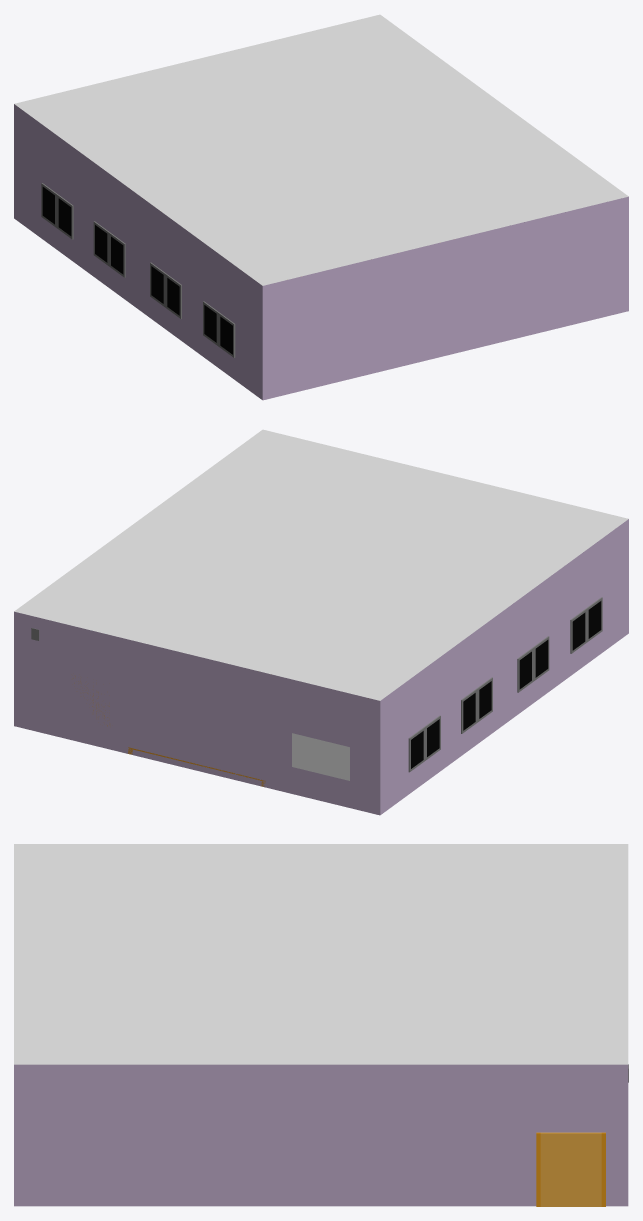
The model's file is Classroom.glb.
The picture shows the model from 3 angles, top to bottom: view 1: azimuth 30°, elevation 25°; view 2: azimuth 150°, elevation 25°; view 3: azimuth 270°, elevation 25°; orthographic projection. The views are drawn at different scales.
Parts seen in each view (by area): view 1: I_Ceiling1, I_Wall1, I_Window1; view 2: I_Ceiling1, I_Wall1, I_Window1; view 3: I_Ceiling1, I_Wall1, I_Door1.
Part boxes in pixels (bbox=[...]): I_Ceiling1: bbox=[14, 14, 628, 285]; I_Wall1: bbox=[14, 104, 628, 400]; I_Window1: bbox=[41, 183, 235, 357]; I_Ceiling1: bbox=[14, 429, 628, 700]; I_Wall1: bbox=[14, 519, 628, 815]; I_Window1: bbox=[408, 597, 602, 772]; I_Ceiling1: bbox=[14, 844, 628, 1064]; I_Wall1: bbox=[14, 1064, 628, 1206]; I_Door1: bbox=[536, 1132, 605, 1206].
Size of the model in its own units: 34.22 by 10.16 by 40.04.
3 materials, 3 textured.
